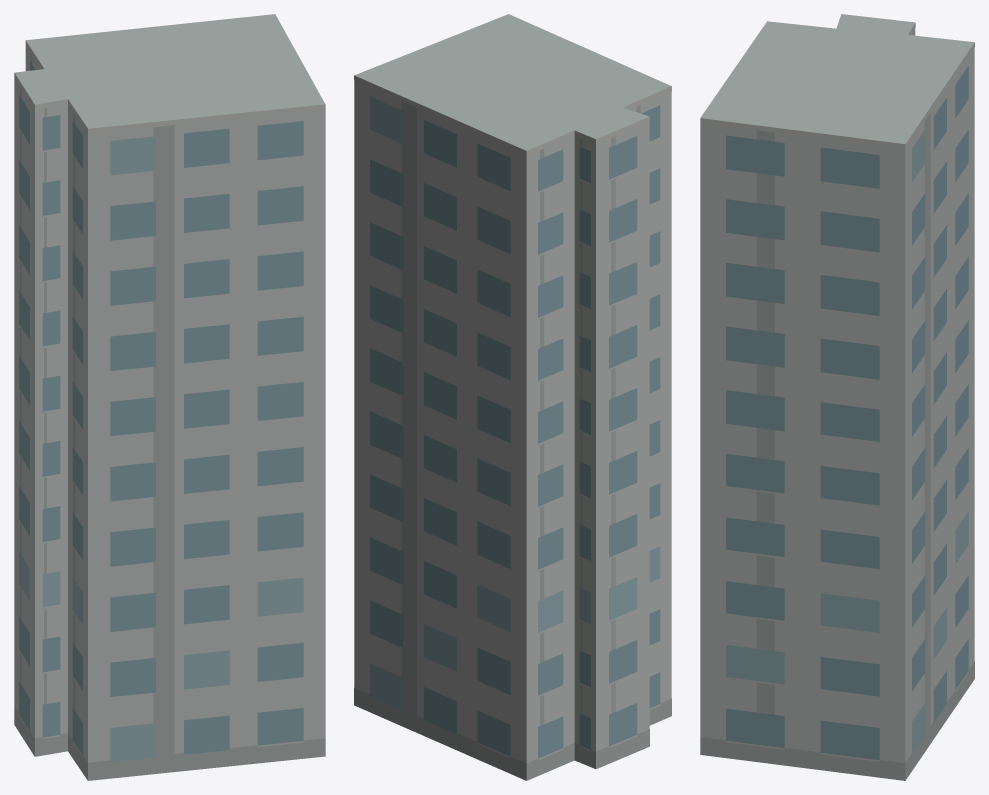
File: survey-upis-32564908.glb
The picture shows the model from 3 angles, left to right: view 1: azimuth 30°, elevation 25°; view 2: azimuth 150°, elevation 25°; view 3: azimuth 270°, elevation 25°; orthographic projection. The views are drawn at different scales.
Parts seen in each view (by area): view 1: survey-upis-32564908.tmp; view 2: survey-upis-32564908.tmp; view 3: survey-upis-32564908.tmp.
Boxes of the visible parts, x1,y1,x2,y2 form: survey-upis-32564908.tmp: (14,14,325,780); survey-upis-32564908.tmp: (354,14,671,780); survey-upis-32564908.tmp: (700,14,974,780).
Size of the model in its own units: 13.38 by 30.5 by 11.93.
